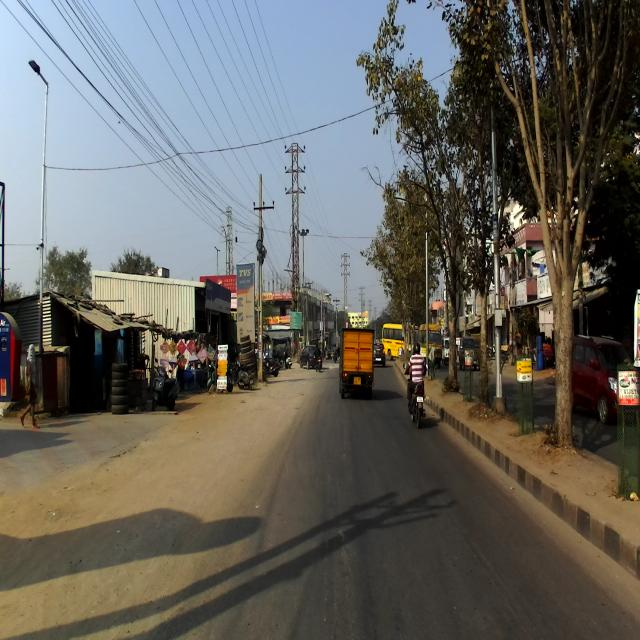auto ahead at: (338, 329, 379, 403)
electric pole ahead at: (250, 170, 274, 392)
